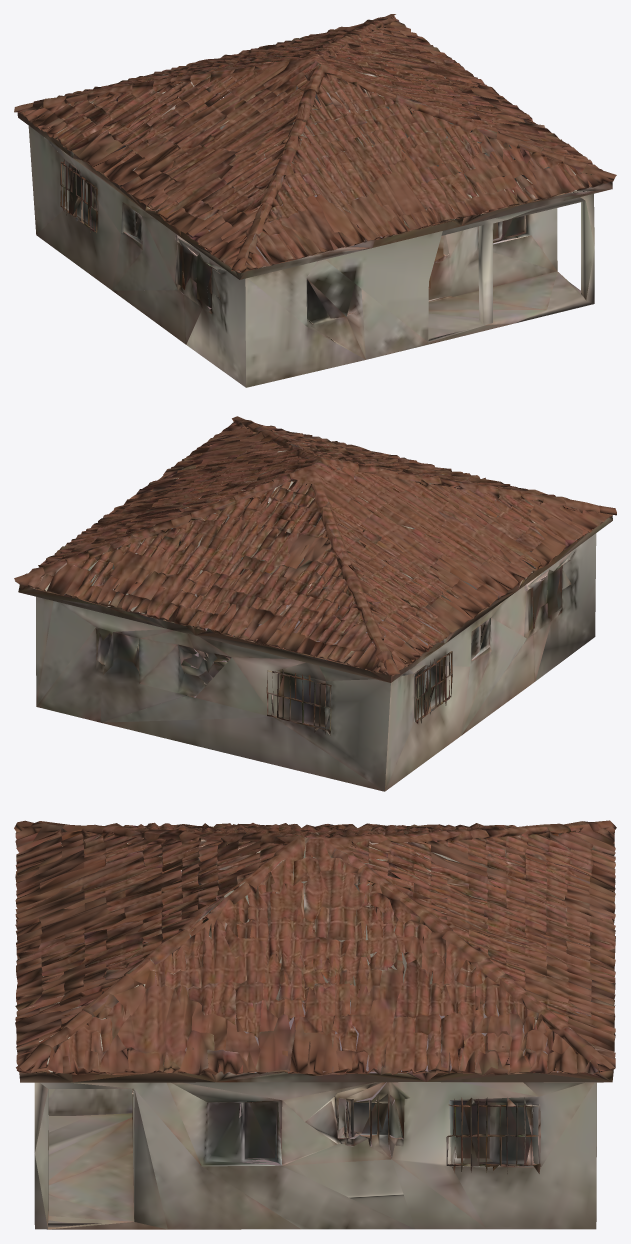
File: house-01-bungalow.far.glb
3 renders of one model, top to bottom at view 1: azimuth 30°, elevation 25°; view 2: azimuth 150°, elevation 25°; view 3: azimuth 270°, elevation 25°, orthographic. The views are drawn at different scales.
Visible parts, largest first — view 1: Mesh_0; view 2: Mesh_0; view 3: Mesh_0.
Part boxes in pixels (x1,y1,x2,y2): Mesh_0: (14, 14, 616, 387); Mesh_0: (14, 416, 616, 791); Mesh_0: (14, 820, 616, 1229).
Size of the model in its own units: 1.88 by 0.9773 by 1.91.
1 material, 1 textured.
